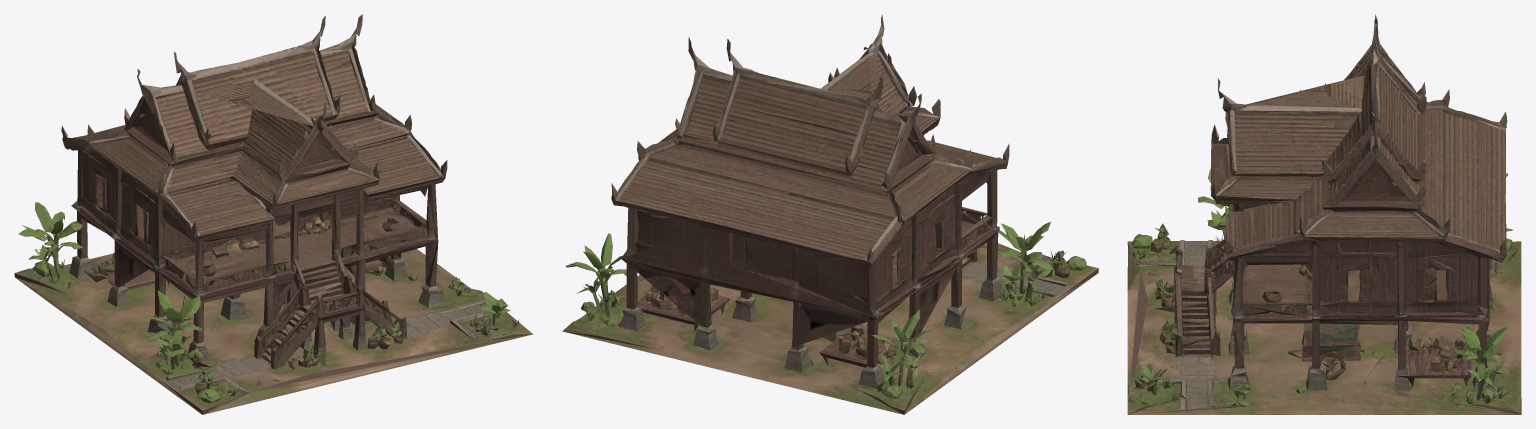
The model's file is noble-house.glb.
3 renders of one model, left to right at view 1: azimuth 30°, elevation 25°; view 2: azimuth 150°, elevation 25°; view 3: azimuth 270°, elevation 25°, orthographic. The views are drawn at different scales.
Parts seen in each view (by area): view 1: output_unwrapped; view 2: output_unwrapped; view 3: output_unwrapped.
Boxes of the visible parts, box(x1,y1,x2,y2) form: output_unwrapped: box(14, 14, 532, 414); output_unwrapped: box(562, 14, 1098, 414); output_unwrapped: box(1127, 14, 1521, 414).
Bounding box in the file's own units: 1.9 × 1.33 × 1.78.
Materials: 1 (1 with a texture image).
